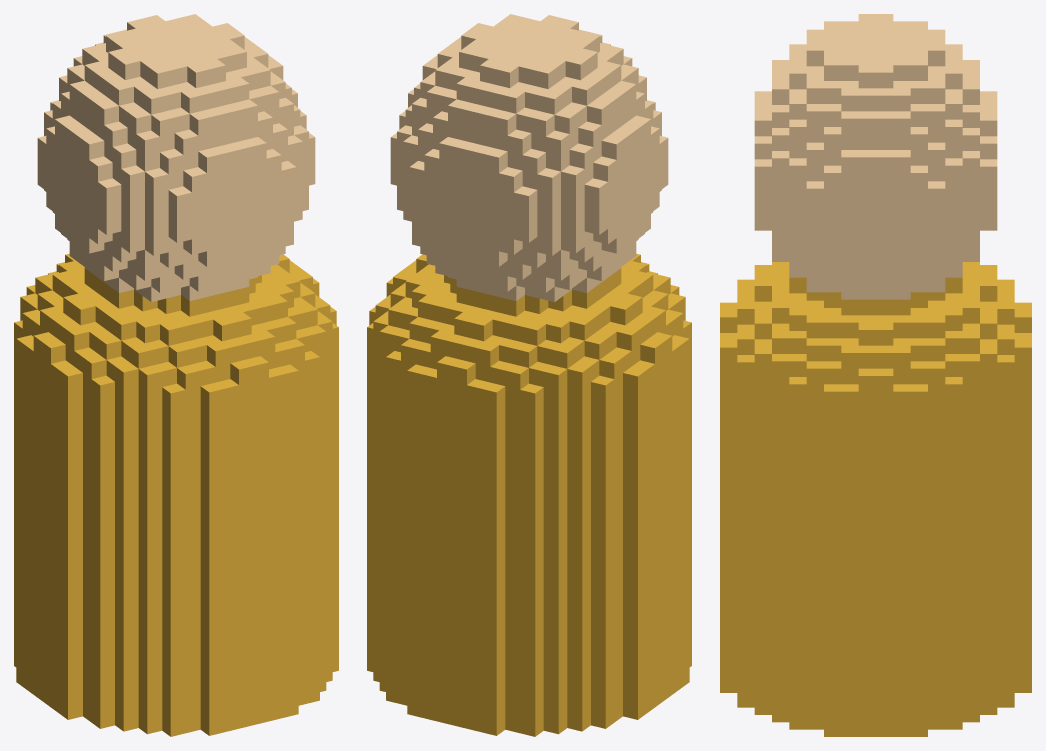
The model's file is Person_4.fbx.
The picture shows the model from 3 angles, left to right: view 1: azimuth 30°, elevation 25°; view 2: azimuth 150°, elevation 25°; view 3: azimuth 270°, elevation 25°; orthographic projection.
Visible parts, largest first — view 1: Person_4; view 2: Person_4; view 3: Person_4.
Part boxes in pixels (x1=…): Person_4: x1=14, y1=14, x2=338, y2=736; Person_4: x1=367, y1=14, x2=691, y2=736; Person_4: x1=720, y1=14, x2=1031, y2=736.
Bounding box in the file's own units: 18 × 40 × 18.
1 material, 1 textured.
